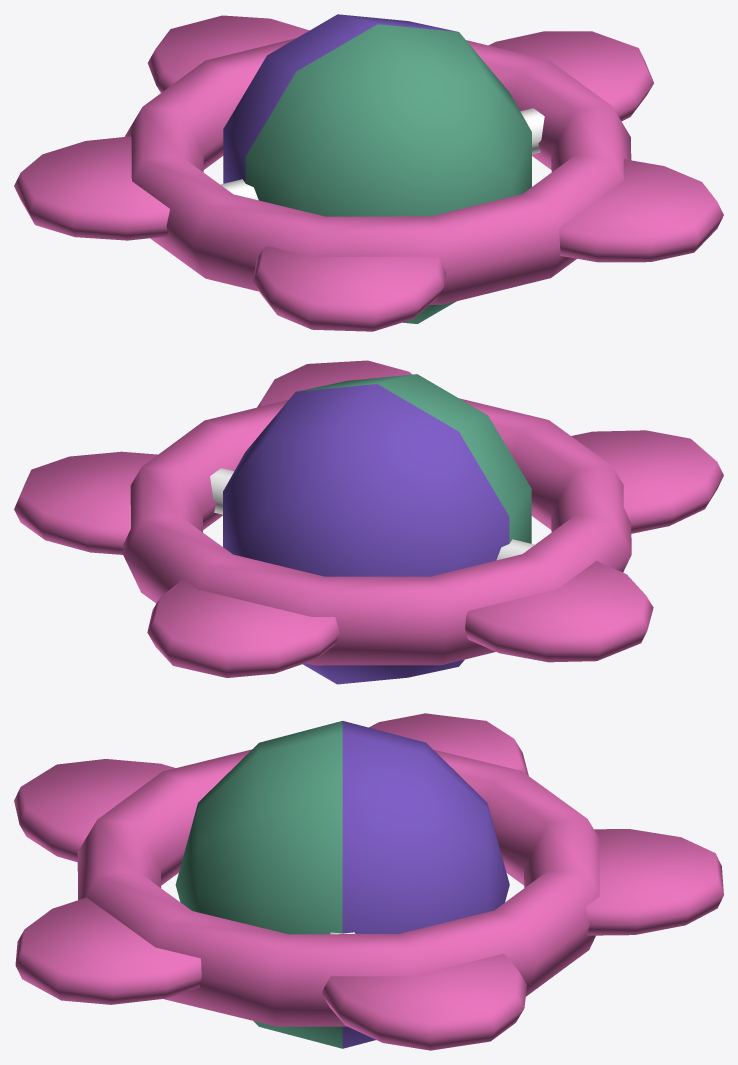
File: FlowerToy_01.fbx
3 views of the same model, one above another, from view 1: azimuth 30°, elevation 25°; view 2: azimuth 150°, elevation 25°; view 3: azimuth 270°, elevation 25° (orthographic). The views are drawn at different scales.
Parts seen in each view (by area): view 1: FlowerToy_01, FlowerToy_01_Ball; view 2: FlowerToy_01, FlowerToy_01_Ball; view 3: FlowerToy_01, FlowerToy_01_Ball.
Part boxes in pixels (<box>): FlowerToy_01: <box>14,15,723,331</box>; FlowerToy_01_Ball: <box>223,14,531,323</box>; FlowerToy_01: <box>14,360,723,677</box>; FlowerToy_01_Ball: <box>223,374,531,684</box>; FlowerToy_01: <box>14,713,723,1050</box>; FlowerToy_01_Ball: <box>175,720,509,1048</box>.
Bounding box in the file's own units: 0.1641 × 0.0737 × 0.1565.
